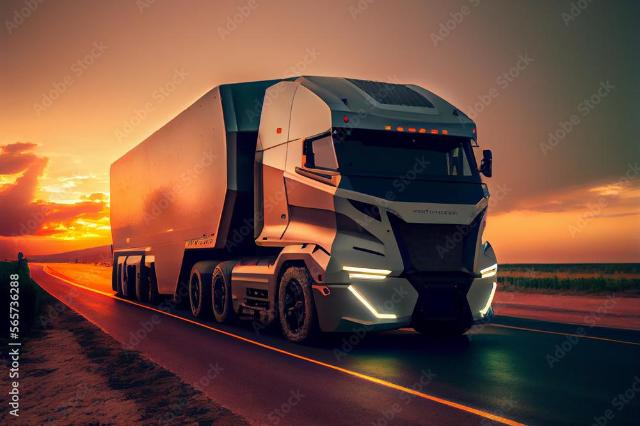truck: (69, 52, 542, 356)
